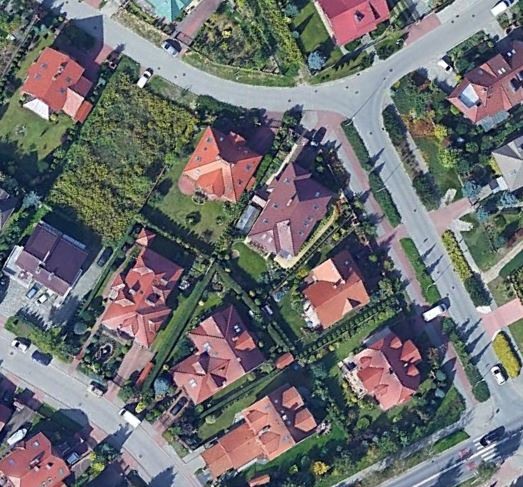family house: (199, 382, 320, 482), (168, 304, 265, 409), (241, 160, 335, 263), (99, 243, 185, 351), (175, 120, 268, 208), (5, 218, 87, 303), (445, 37, 523, 126), (345, 326, 423, 413), (15, 47, 96, 127), (302, 250, 372, 333), (310, 1, 394, 53), (1, 428, 73, 487)
